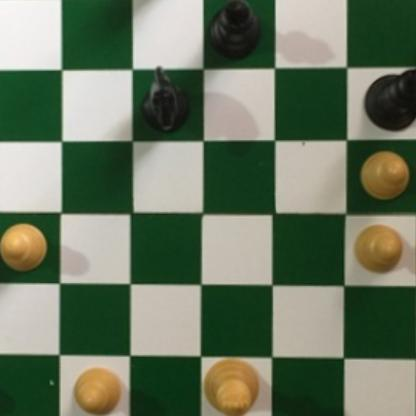black-bishop: (204, 0, 264, 58)
black-king: (361, 65, 416, 134)
black-knight: (139, 61, 192, 139)
white-king: (201, 358, 261, 416)
white-pawn: (358, 146, 414, 202), (0, 218, 51, 276), (352, 222, 407, 274), (72, 362, 124, 416)
